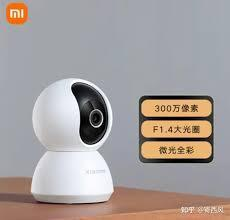maru: (24, 67, 120, 154)
